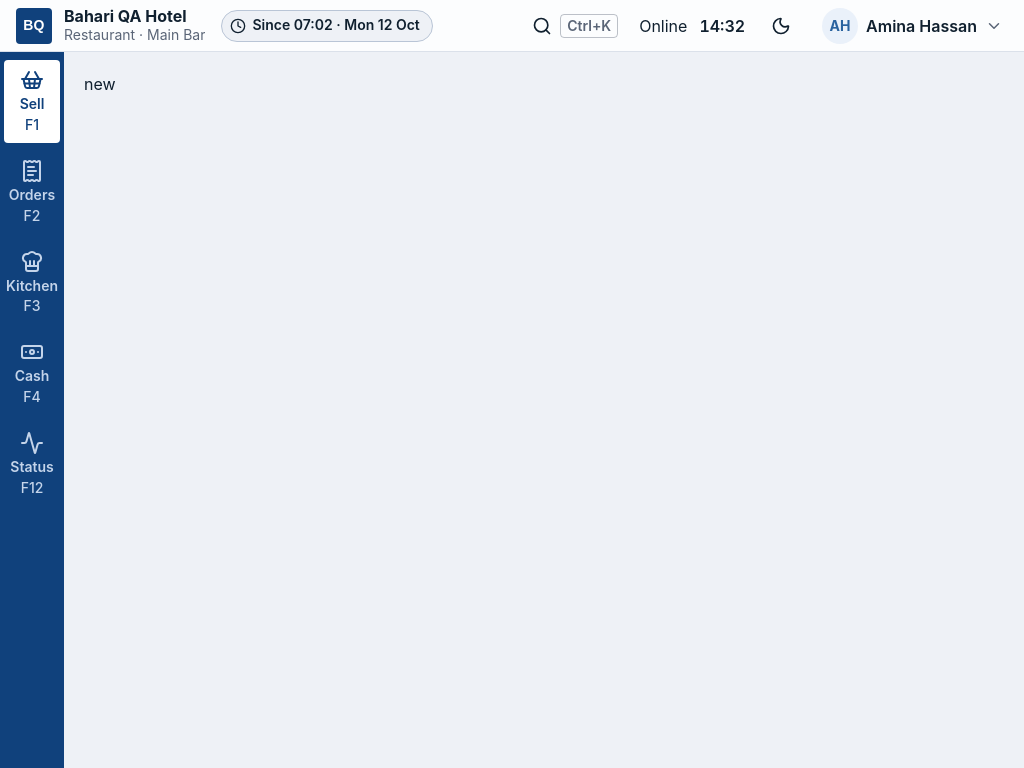
Test: TillShell keyboard › does not open a search result while an input method is composing
Step 1. Press k
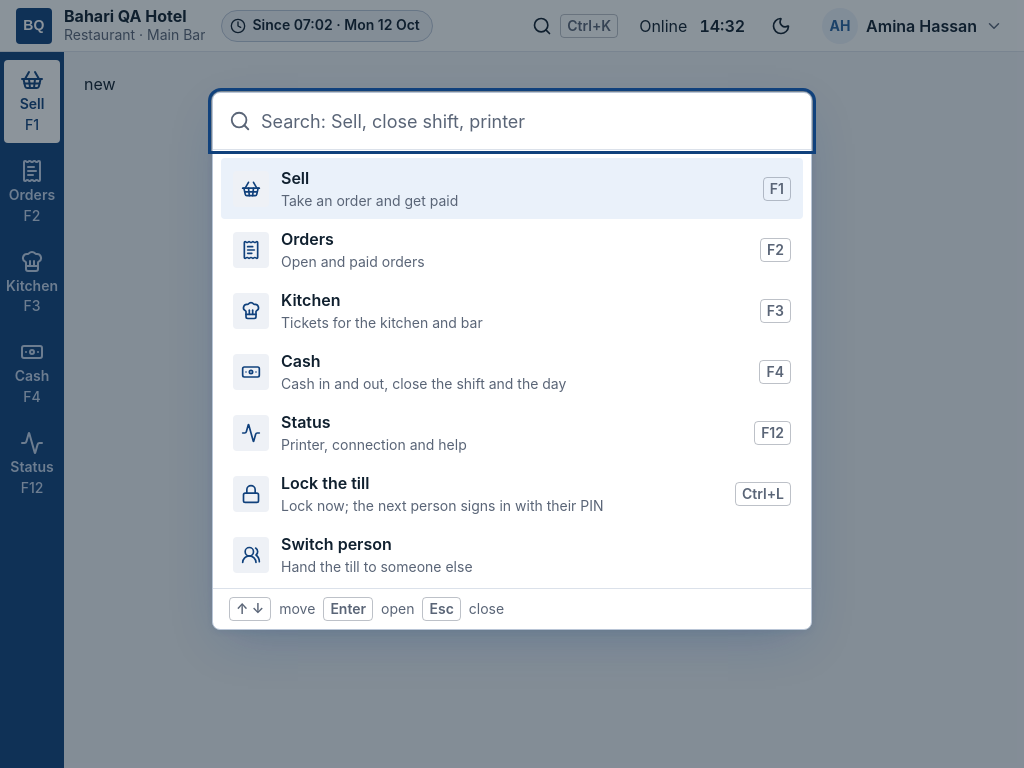
Step 2. Type "close shift" into the dropdown labelled "Search: Sell, close shift, printer" → (512, 121), box x1=213 y1=93 x2=811 y2=149
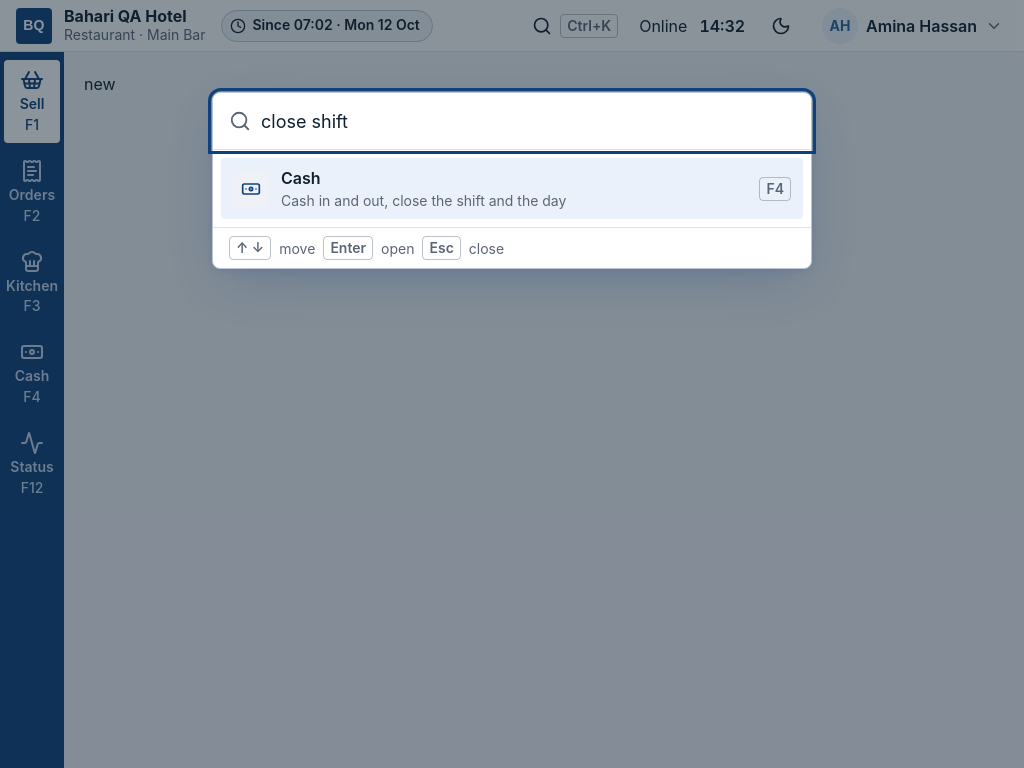
Step 3. Press Enter in the dropdown named "Search", box x1=213 y1=93 x2=811 y2=149
Step 4. Press Enter in the dropdown named "Search", box x1=213 y1=93 x2=811 y2=149
Expected: the text with test id "current-page" reads "new", x1=84 y1=74 x2=116 y2=94
Step 5. Press Enter in the dropdown named "Search", box x1=213 y1=93 x2=811 y2=149
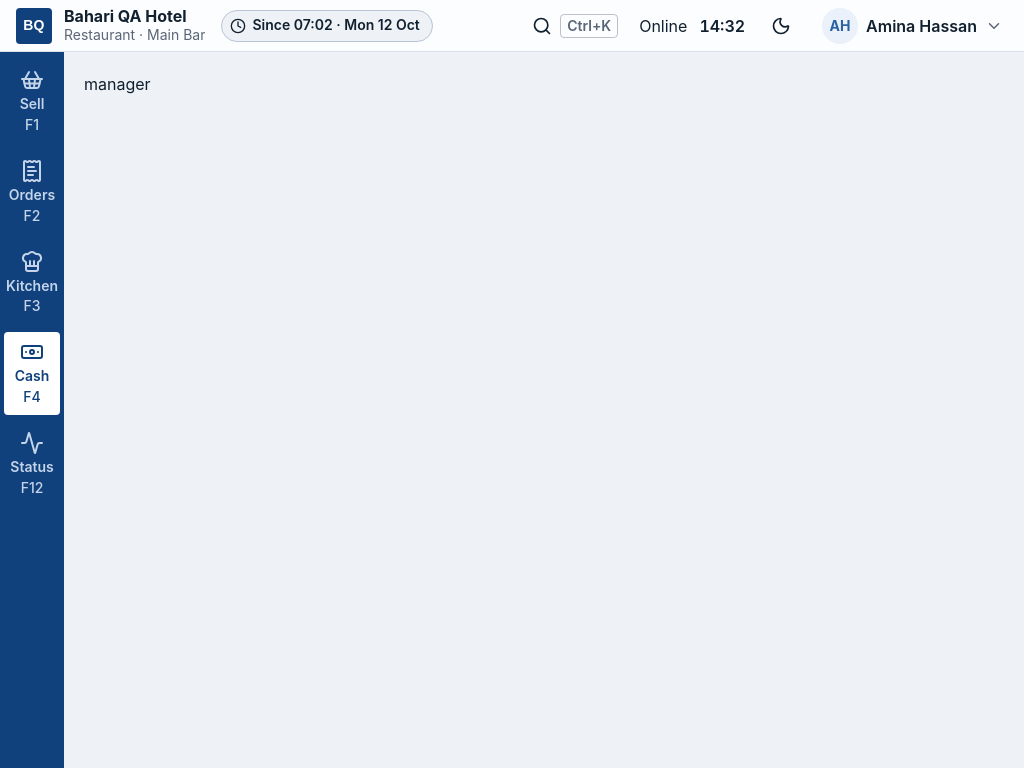
Now the text with test id "current-page" reads "manager", box x1=84 y1=74 x2=151 y2=94
